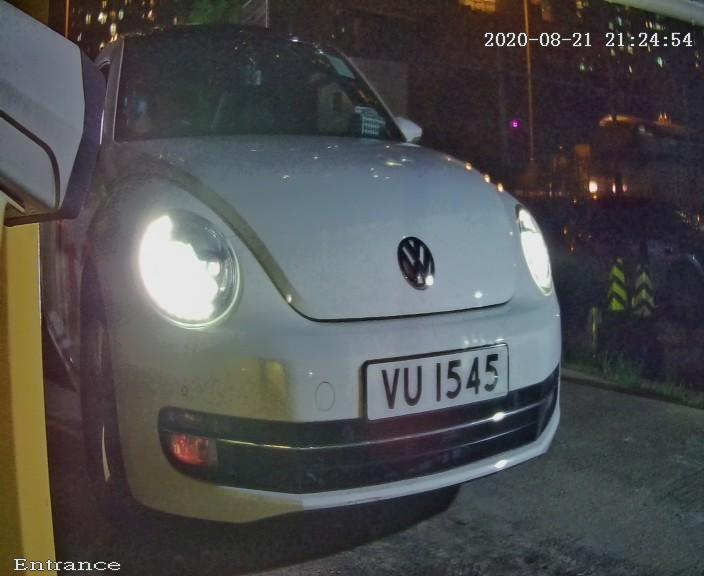Car: (7, 6, 632, 559)
License Plate: (346, 337, 516, 425)
